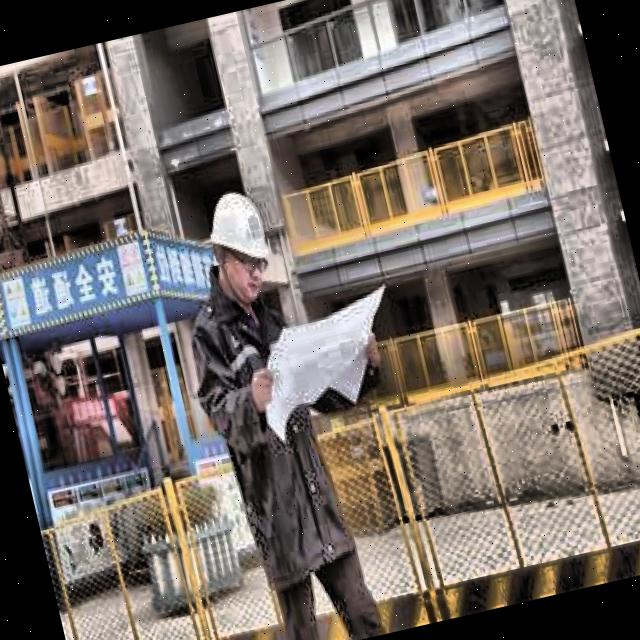helmet: (190, 174, 284, 316)
